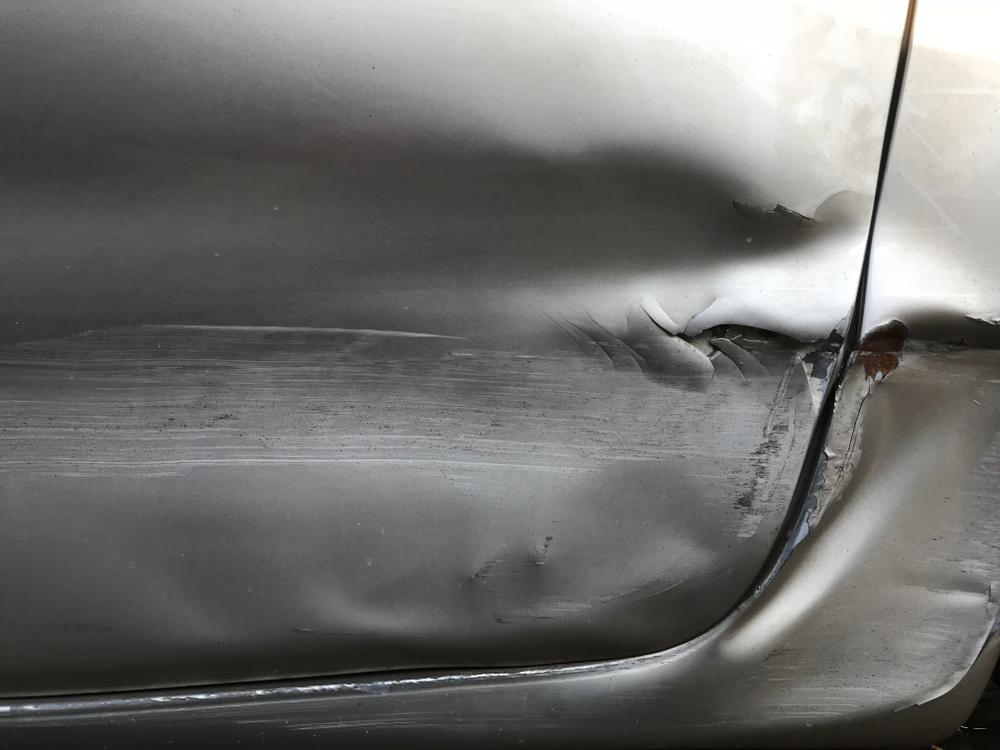dent: (55, 126, 862, 624), (716, 314, 997, 700)
scratch: (0, 328, 184, 495), (230, 708, 512, 730)
